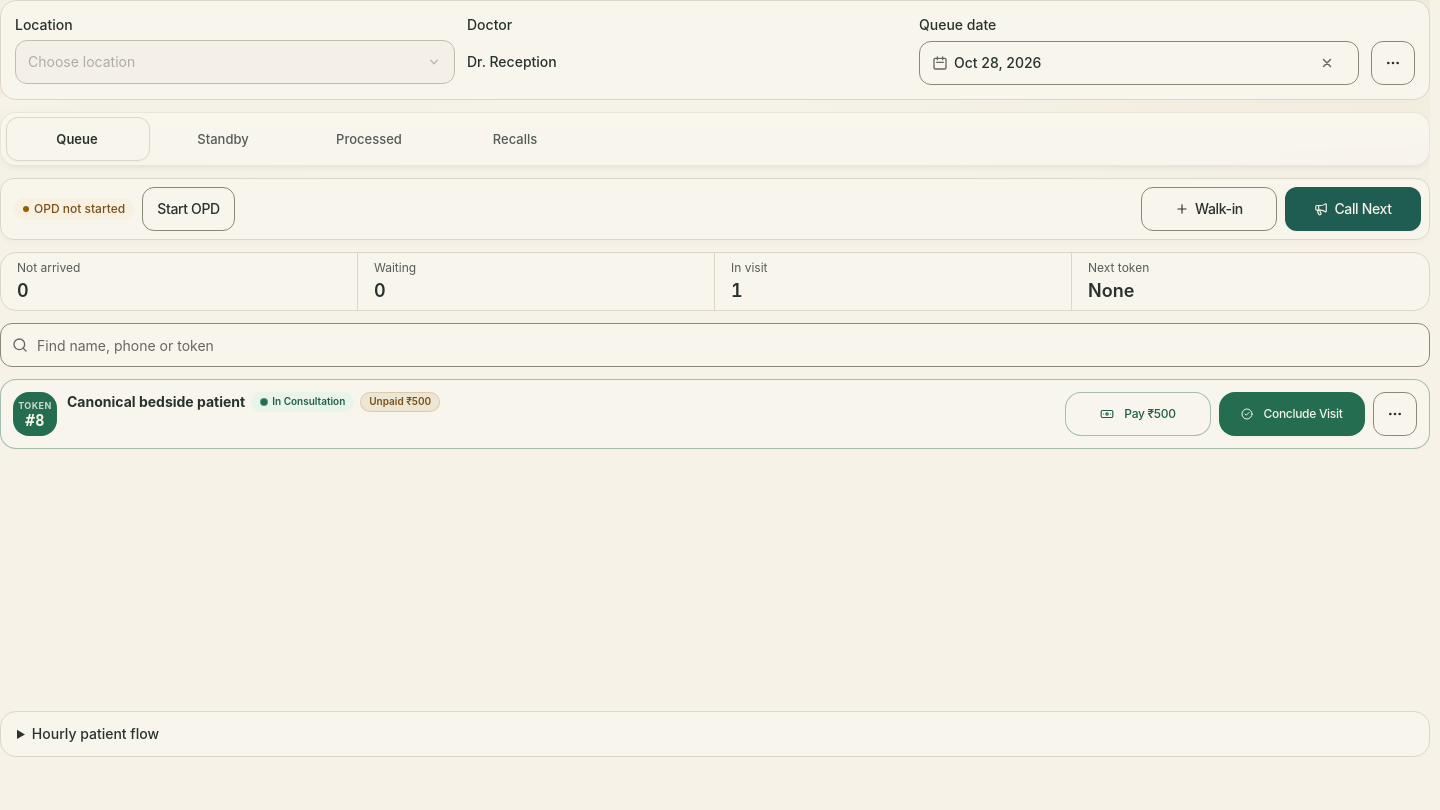
Test: shows the canonical patient in the clinical queue and completion dialog without a login account
Click the button "Conclude Visit" at (1292, 414), box [1219,392,1365,436]
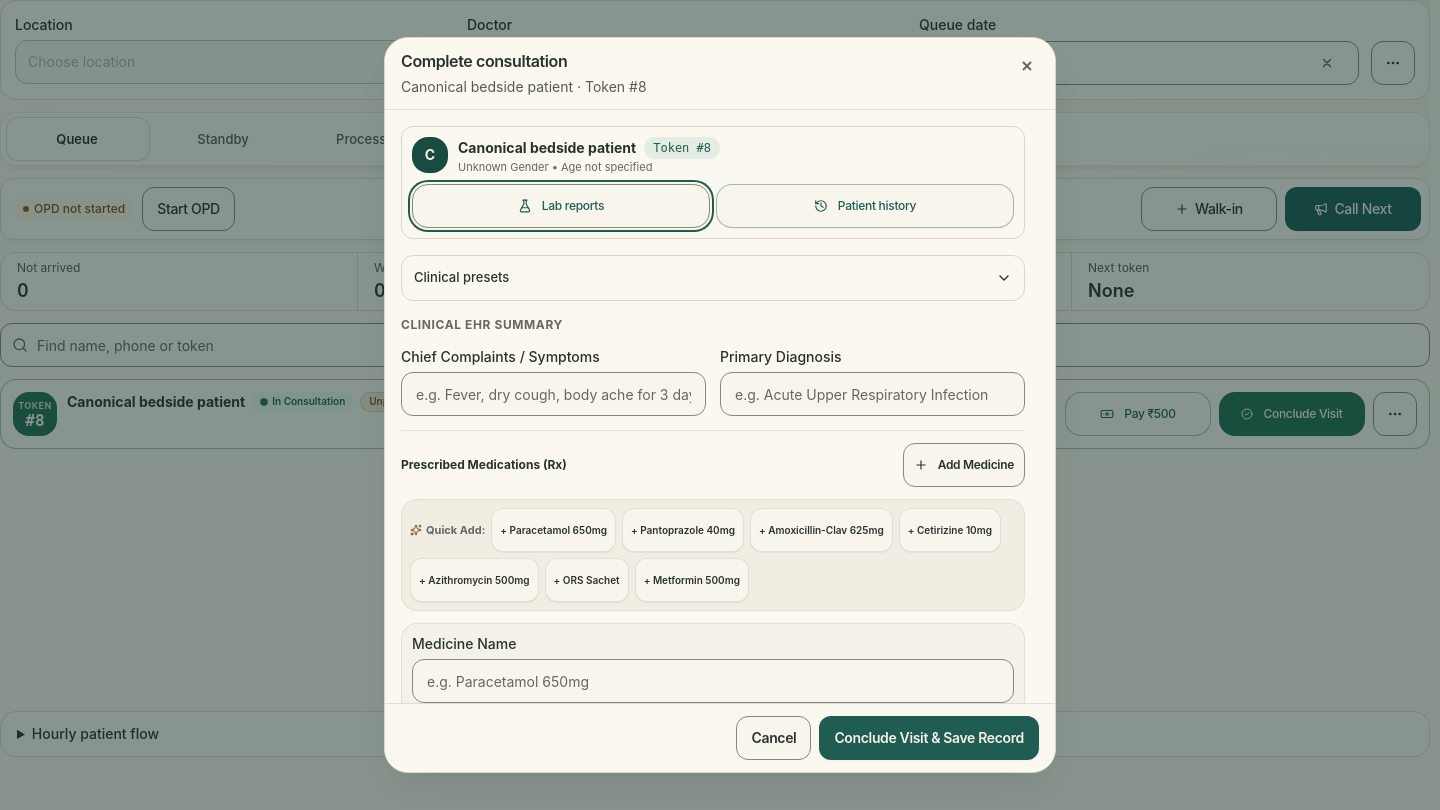
Now the dialog shows "Canonical bedside patient", box [458,139,636,156]
